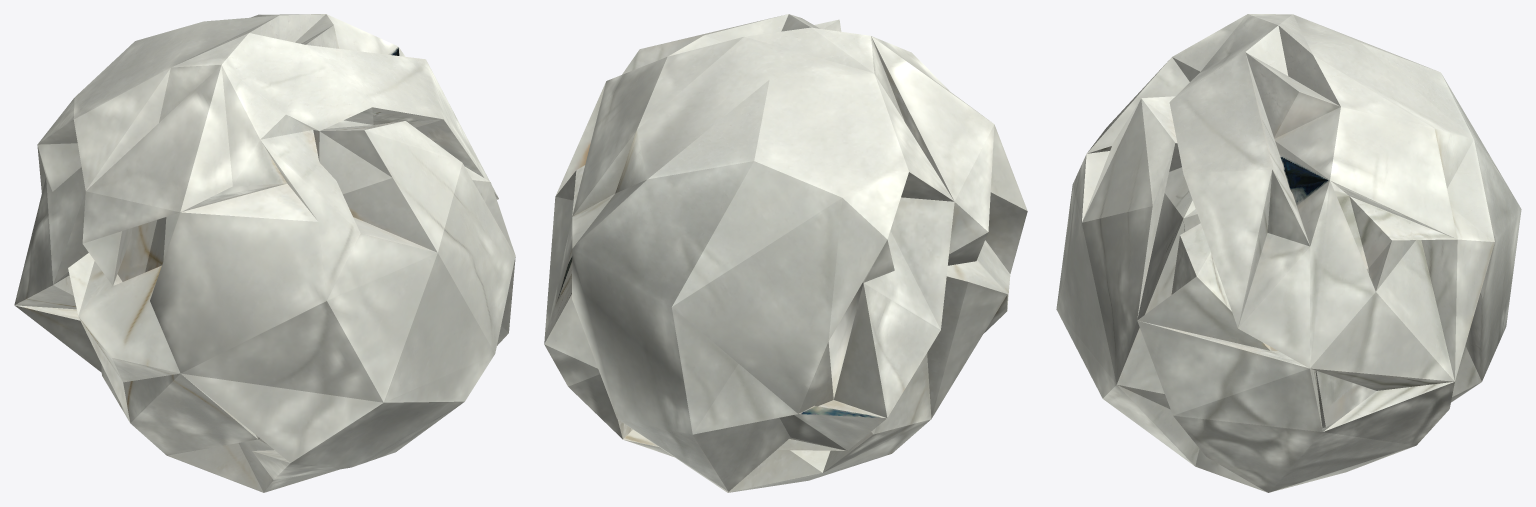
Rendered from IT_Trash_CrumpledPaperBall.fbx.
3 views of the same model, side by side, from view 1: azimuth 30°, elevation 25°; view 2: azimuth 150°, elevation 25°; view 3: azimuth 270°, elevation 25° (orthographic). The views are drawn at different scales.
Visible parts, largest first — view 1: Mesh_0; view 2: Mesh_0; view 3: Mesh_0.
Boxes of the visible parts, left/top/right/bottom form: Mesh_0: left=14, top=14, right=515, bottom=492; Mesh_0: left=544, top=14, right=1027, bottom=492; Mesh_0: left=1056, top=14, right=1521, bottom=492.
Size of the model in its own units: 181 by 189 by 183.
Materials: 1 (1 with a texture image).
